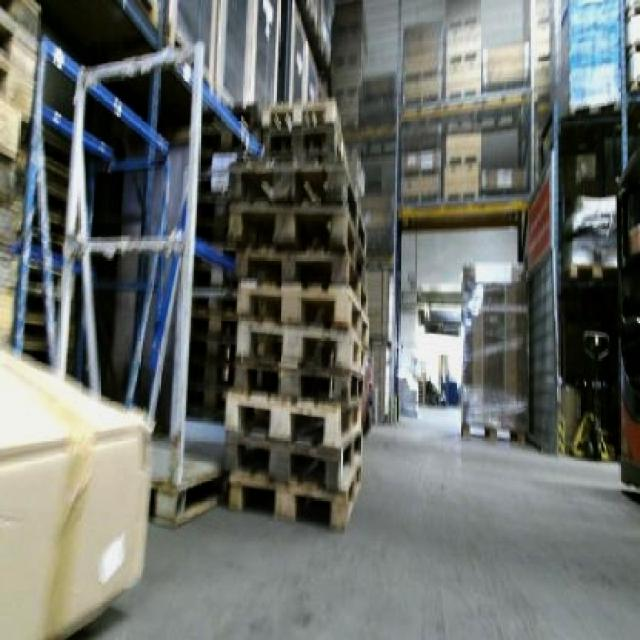floor: (71, 406, 637, 637)
pallets: (223, 98, 365, 526), (0, 348, 146, 637)
